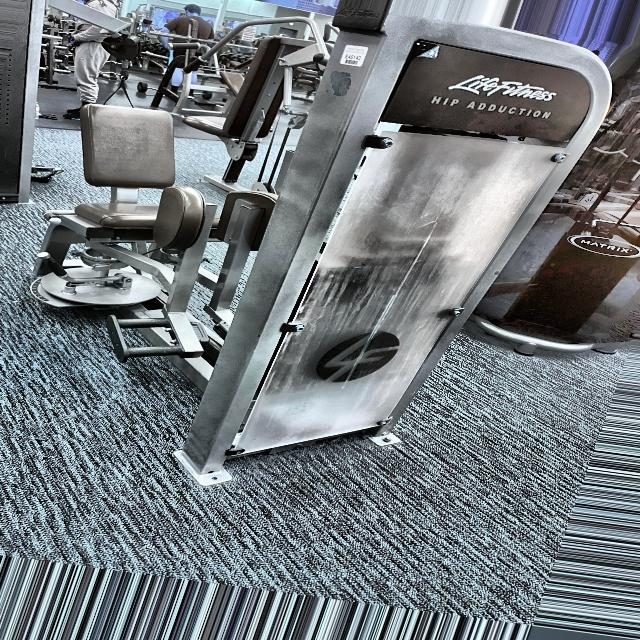hip_adduction_machine: (45, 78, 249, 400), (432, 85, 562, 141)
